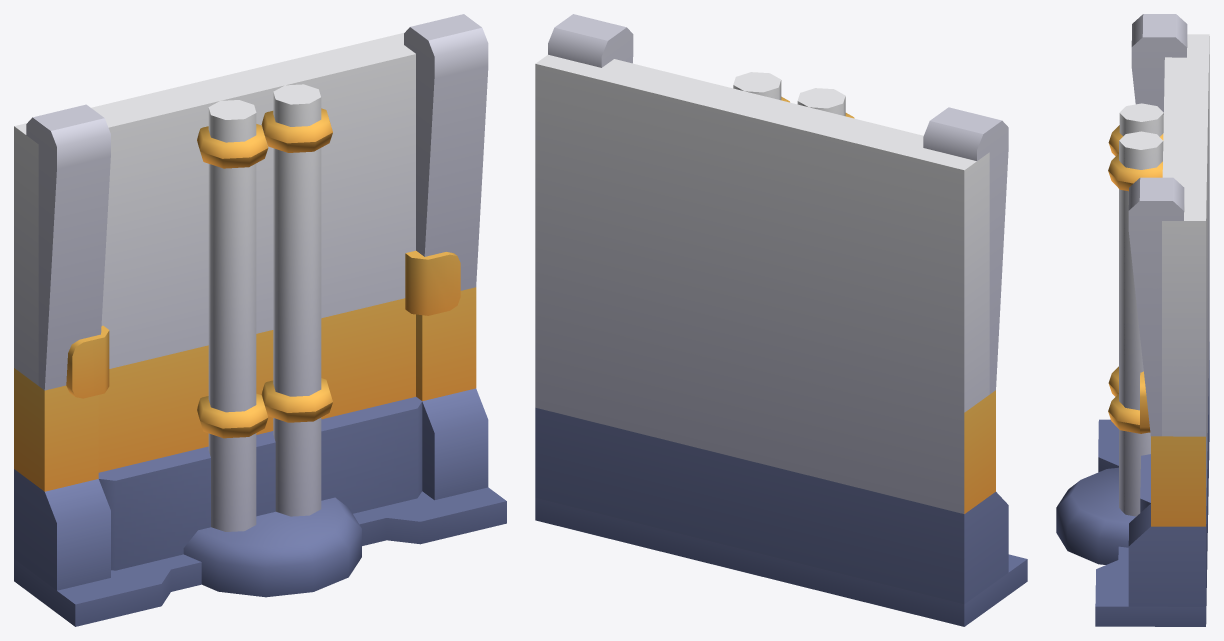
File: template-wall-detail-a.008_lev4.glb
The picture shows the model from 3 angles, left to right: view 1: azimuth 30°, elevation 25°; view 2: azimuth 150°, elevation 25°; view 3: azimuth 270°, elevation 25°; orthographic projection. The views are drawn at different scales.
Visible parts, largest first — view 1: template-wall-detail-a.008_lev4; view 2: template-wall-detail-a.008_lev4; view 3: template-wall-detail-a.008_lev4.
Boxes of the visible parts, x1,y1,x2,y2 form: template-wall-detail-a.008_lev4: (14,14,506,626); template-wall-detail-a.008_lev4: (535,14,1027,626); template-wall-detail-a.008_lev4: (1056,14,1209,626).
Bounding box in the file's own units: 12.02 × 12.75 × 4.15.
Materials: 1 (1 with a texture image).
